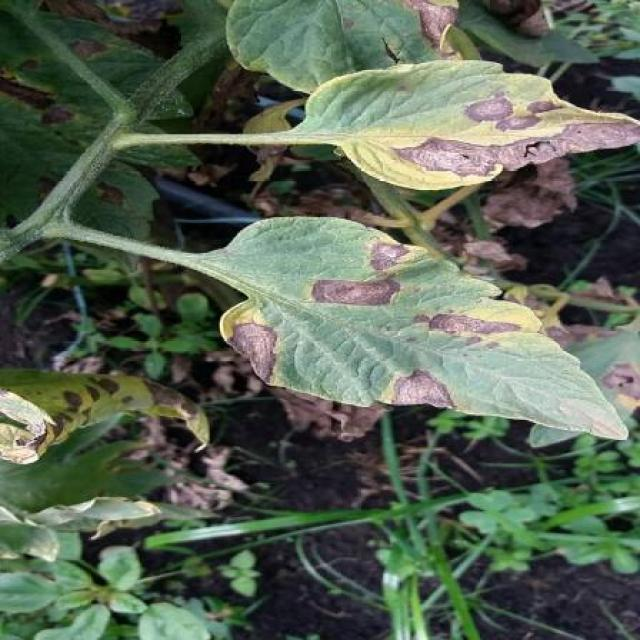Early Blight: (208, 212, 632, 442), (304, 56, 640, 191)
